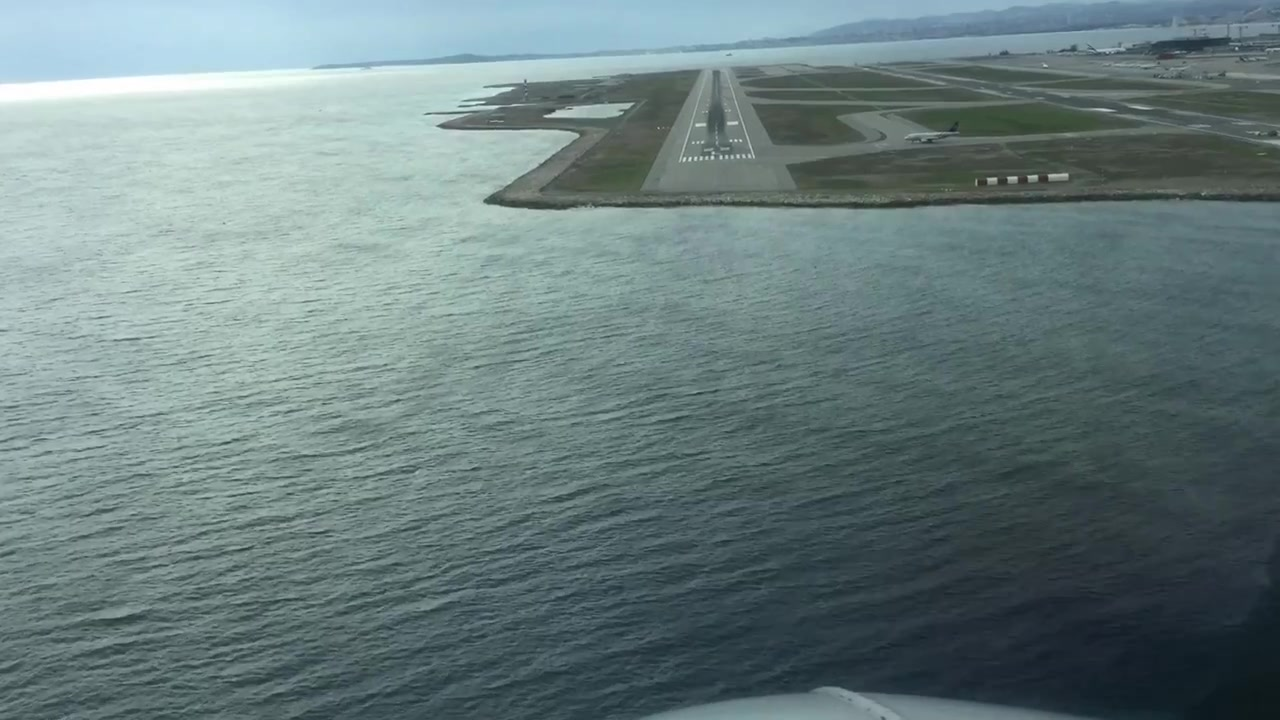entrance: (680, 152, 756, 163)
runway: (642, 68, 797, 193)
